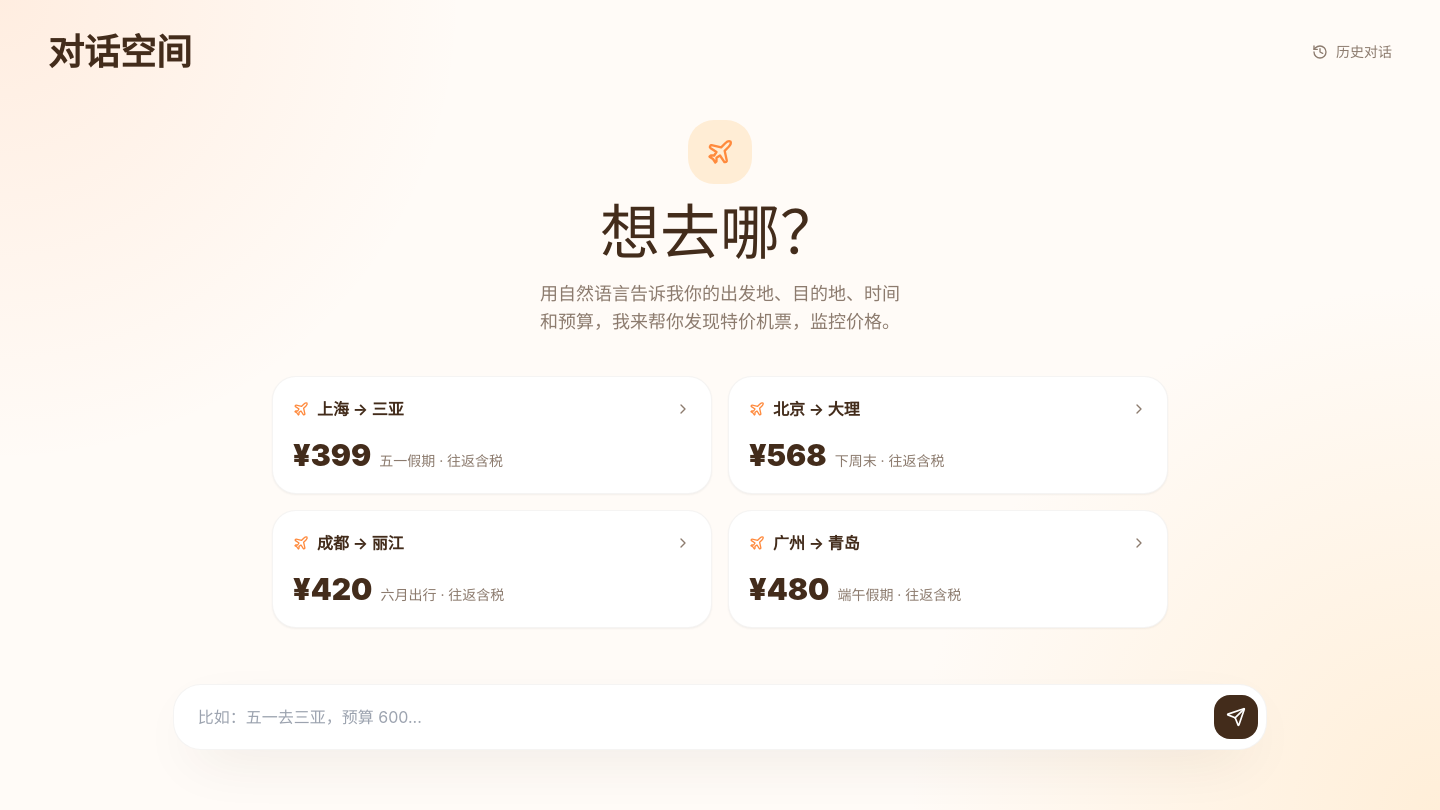
it: renders validation errors as a terminal assistant message
This screenshot has width=1440, height=810.
Type "过去日期" into the field.
click(698, 717); type("过去日期")  # box [182,693,1214,741]
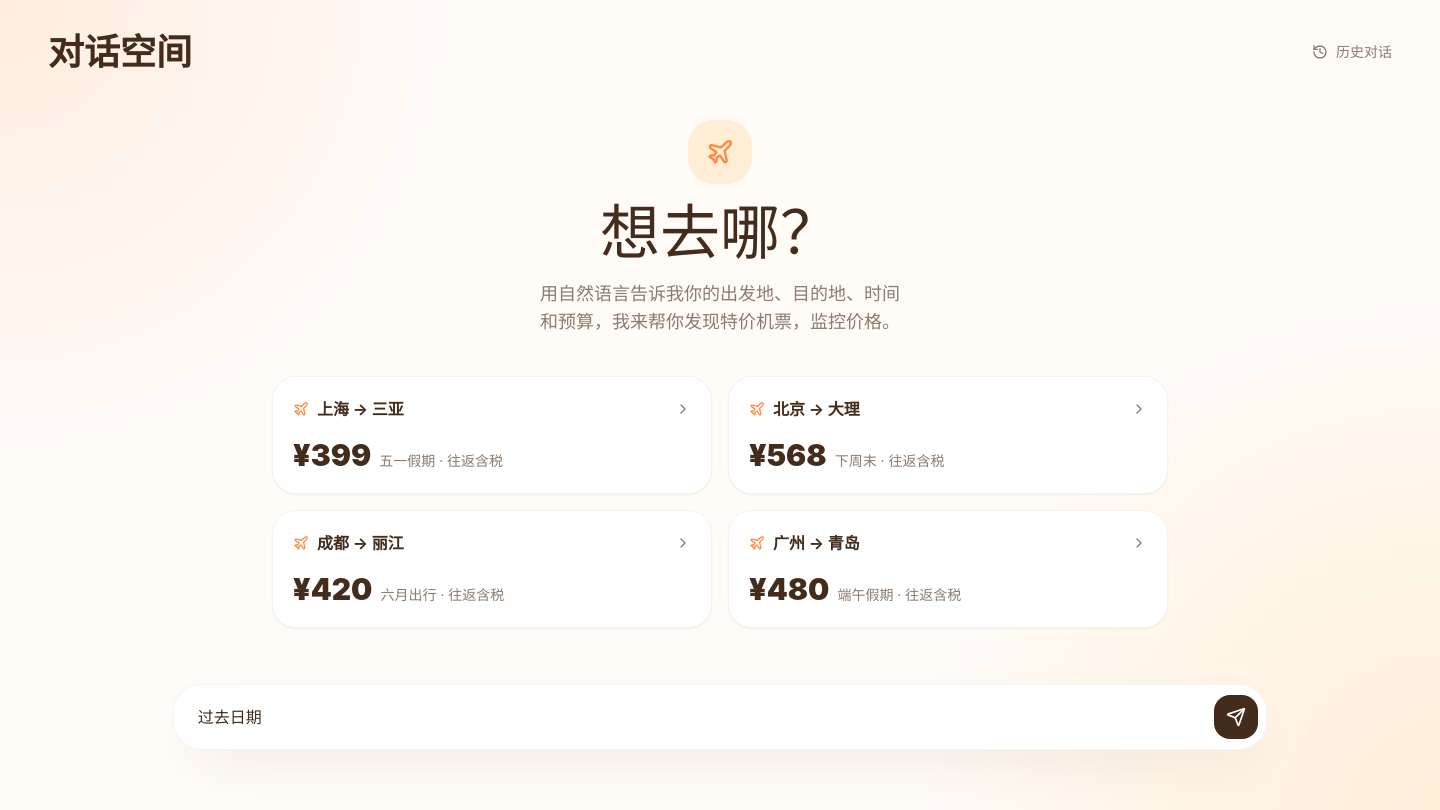
Press Enter in the field, box [182,693,1214,741]
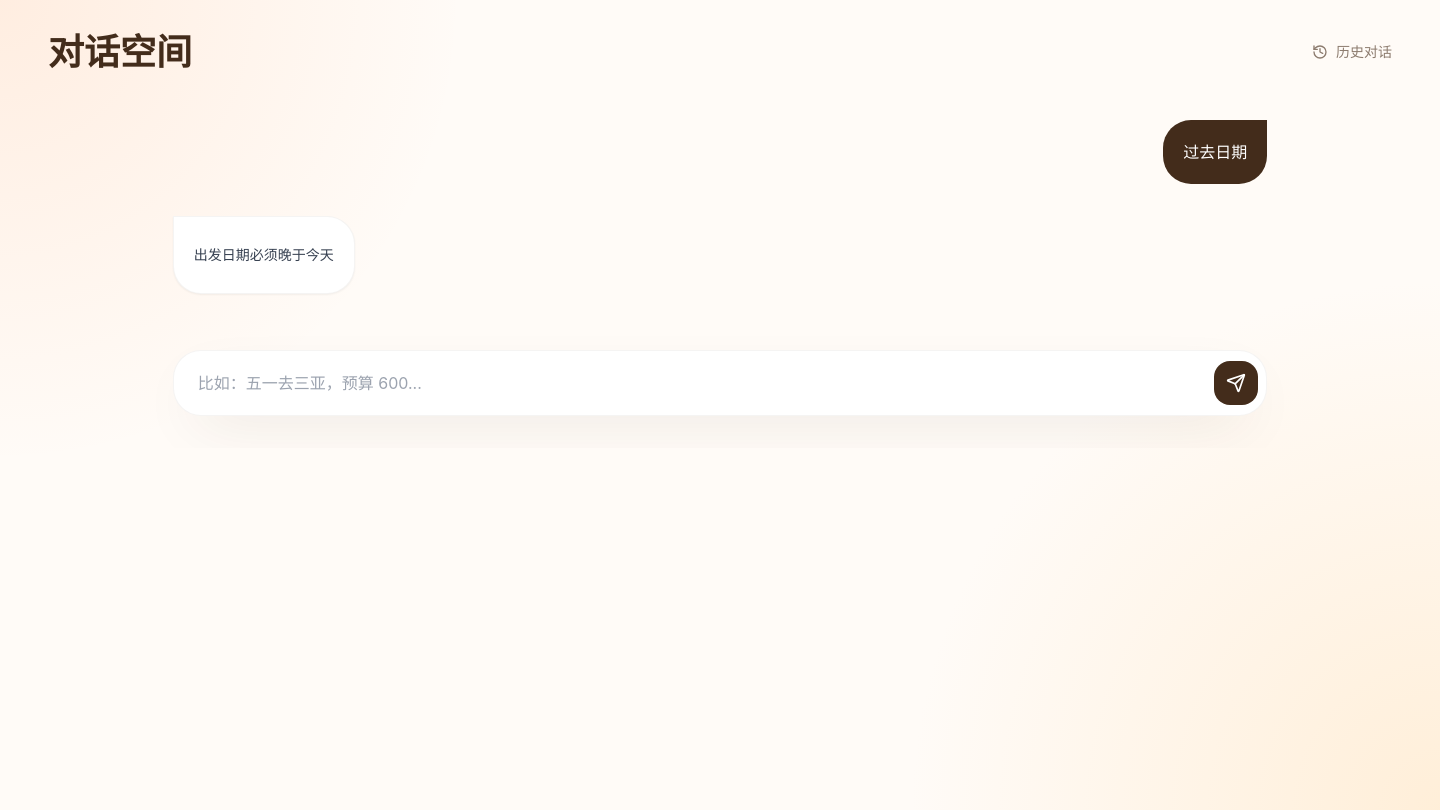
Result: the text "出发日期必须晚于今天" is shown at [194,243,334,267]
